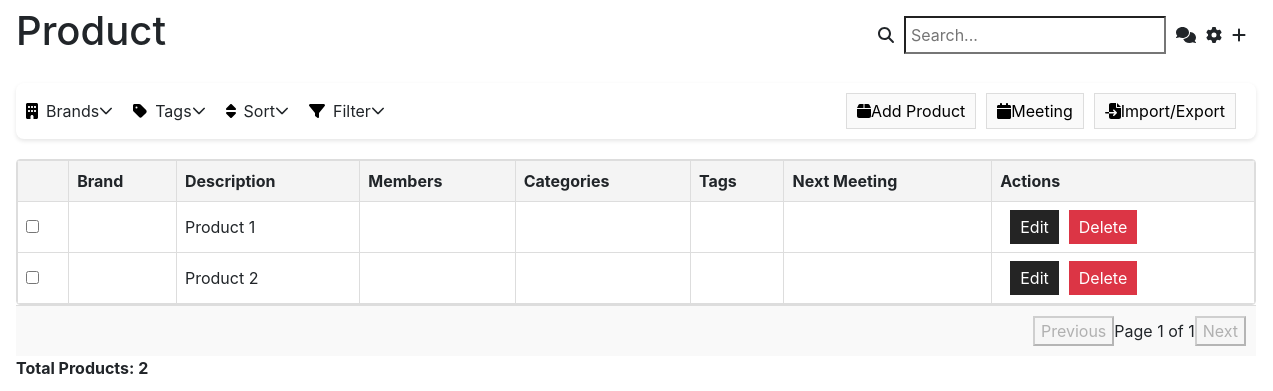
Product Component › search input filters products
The width and height of the screenshot is (1273, 391).
Expected: the text "Product 1" is shown, x1=176 y1=202 x2=360 y2=252
Expected: the text "Product 2" is shown, x1=176 y1=252 x2=360 y2=304
Note: Filter by searching for "Product 1"
In the search field with placeholder "Search...": [1035, 35] box x1=904 y1=16 x2=1166 y2=54, type "Product 1"
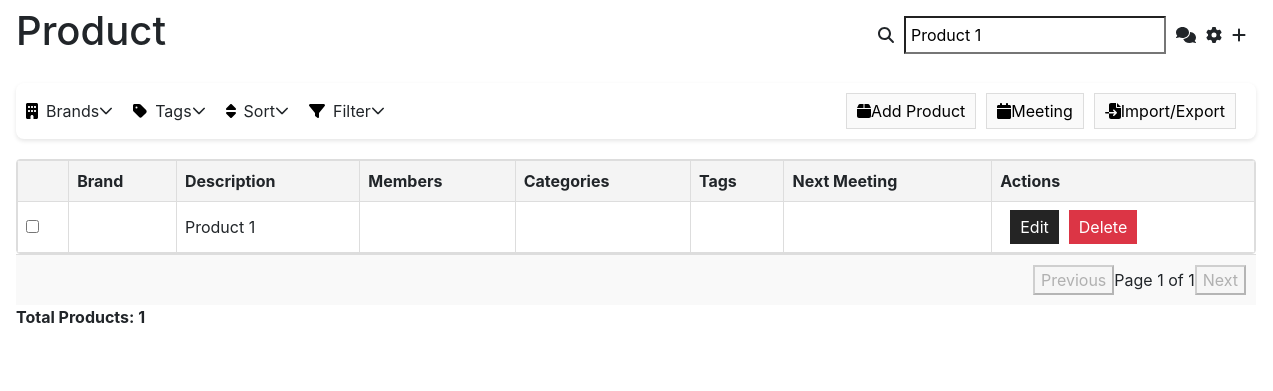
Expected: the text "Product 1" is shown, x1=176 y1=202 x2=360 y2=252
Result: the text "Product 2" is gone
